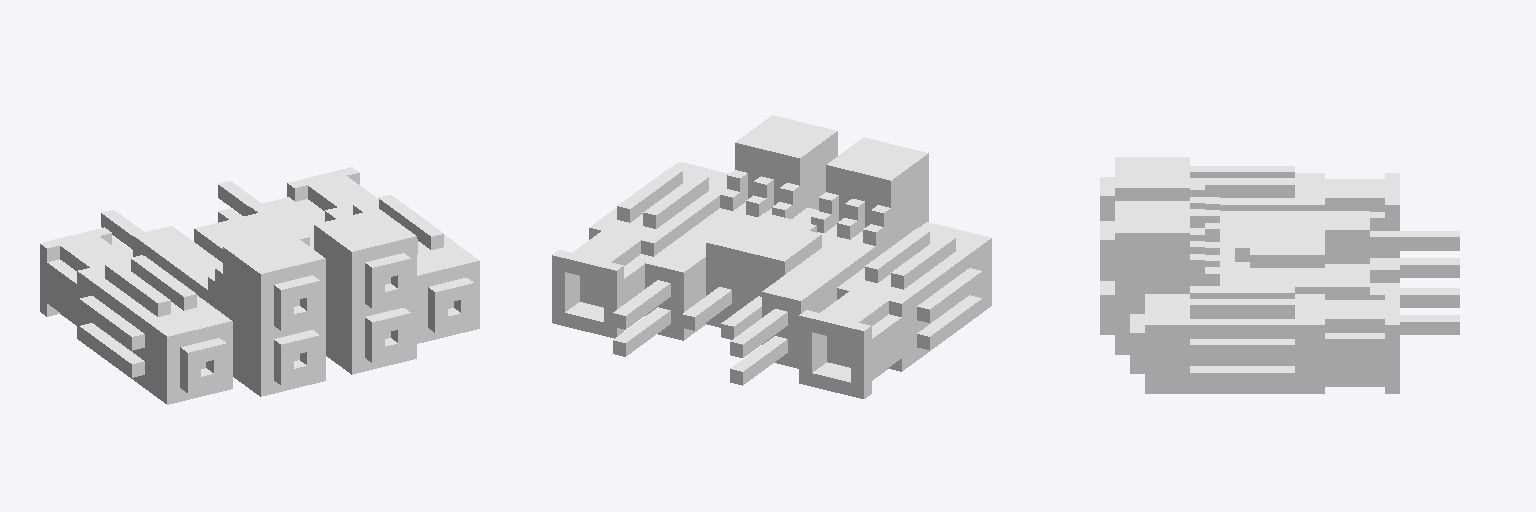
The model's file is Enemy1.5 1.obj.
The picture shows the model from 3 angles: view 1: azimuth 30°, elevation 25°; view 2: azimuth 150°, elevation 25°; view 3: azimuth 270°, elevation 25°; orthographic projection.
Size of the model in its own units: 26 by 9 by 24.